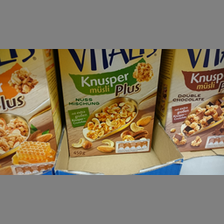cereal: (57, 49, 162, 159), (1, 49, 59, 168), (163, 49, 224, 153)
